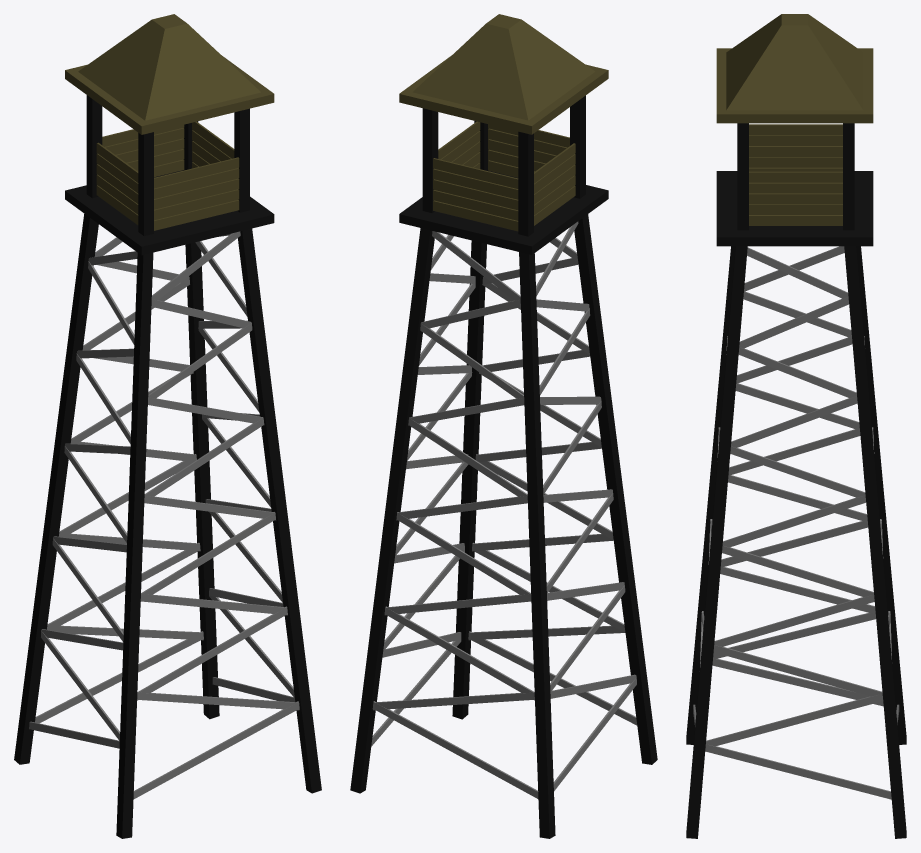
The model's file is ObservationTower.FBX.
3 views of the same model, side by side, from view 1: azimuth 30°, elevation 25°; view 2: azimuth 150°, elevation 25°; view 3: azimuth 270°, elevation 25° (orthographic). The views are drawn at different scales.
Visible parts, largest first — view 1: Observation_tower, Object005, Object001, Object002, Object004, Object003; view 2: Observation_tower, Object005, Object001, Object002, Object003, Object004; view 3: Object005, Observation_tower, Object001, Object002, Object004, Object003.
Part boxes in pixels (x1,y1,x2,y2): Observation_tower: (14,214,321,838); Object005: (29,231,299,799); Object001: (65,14,274,134); Object002: (96,121,239,230); Object004: (65,170,274,255); Object003: (86,95,249,236); Observation_tower: (350,214,657,838); Object005: (371,221,637,798); Object001: (399,14,608,134); Object002: (433,121,575,231); Object003: (422,95,585,236); Object004: (399,171,608,254); Object005: (693,246,899,799); Observation_tower: (686,246,906,838); Object001: (716,14,873,123); Object002: (749,124,842,225); Object004: (716,171,873,246); Object003: (737,123,854,230).
Bounding box in the file's own units: 1203 × 1127 × 4347.
